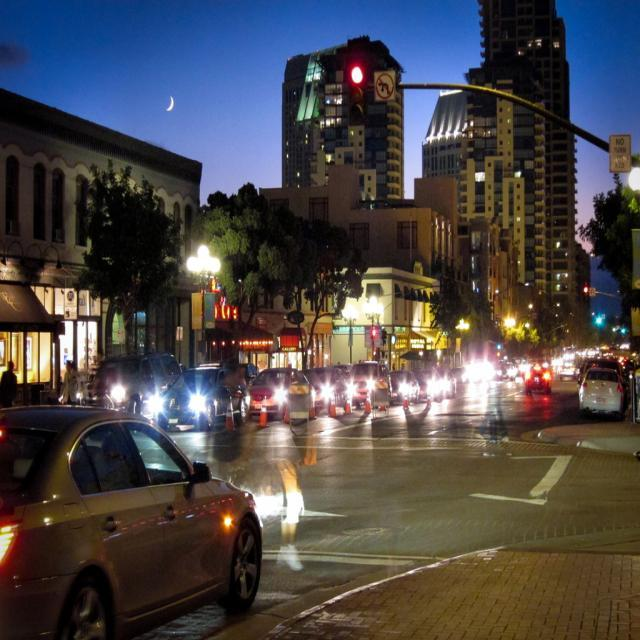traffic light: (342, 35, 369, 118)
